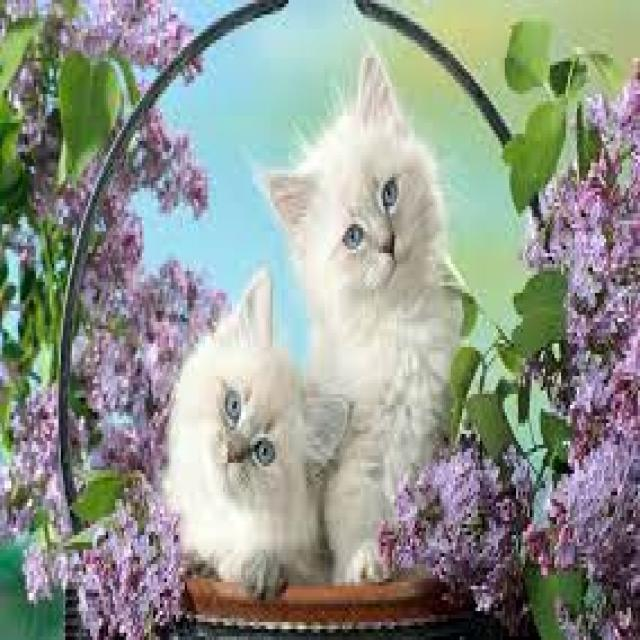Cat: (248, 43, 468, 587), (161, 261, 351, 605)
